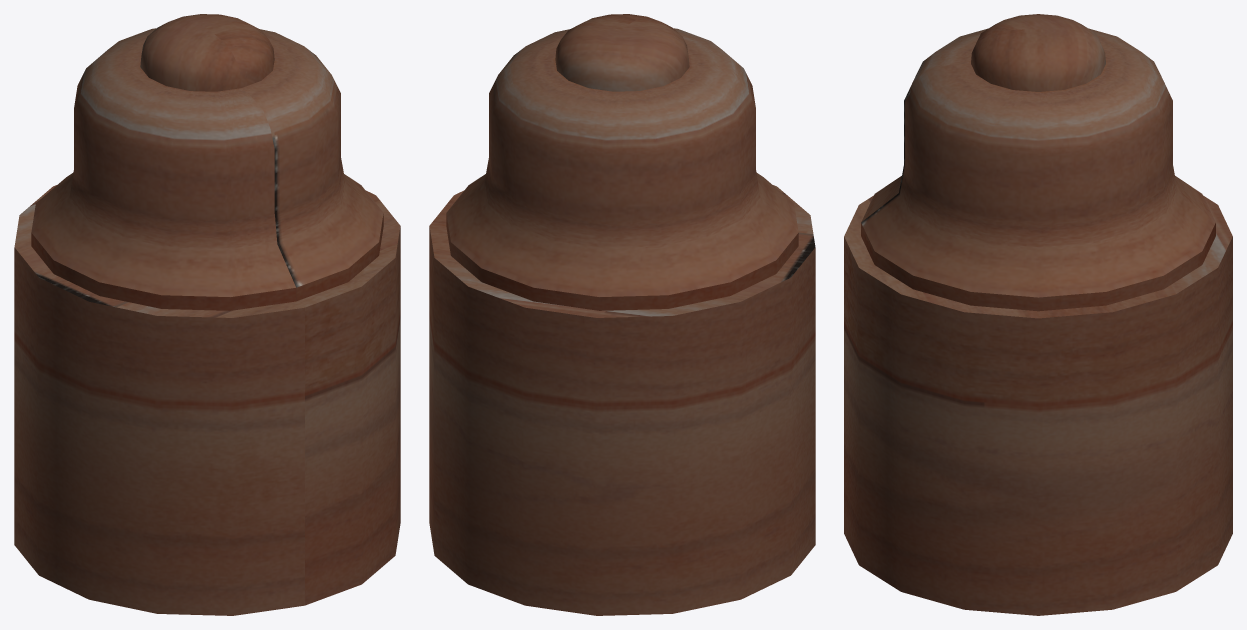
Rendered from Fence_Pillar02.FBX.
3 views of the same model, side by side, from view 1: azimuth 30°, elevation 25°; view 2: azimuth 150°, elevation 25°; view 3: azimuth 270°, elevation 25° (orthographic).
Parts seen in each view (by area): view 1: Cylinder002; view 2: Cylinder002; view 3: Cylinder002.
Boxes of the visible parts, x1,y1,x2,y2 form: Cylinder002: [14, 14, 400, 615]; Cylinder002: [429, 14, 815, 615]; Cylinder002: [844, 14, 1232, 615].
Bounding box in the file's own units: 93.17 × 133 × 93.17.
